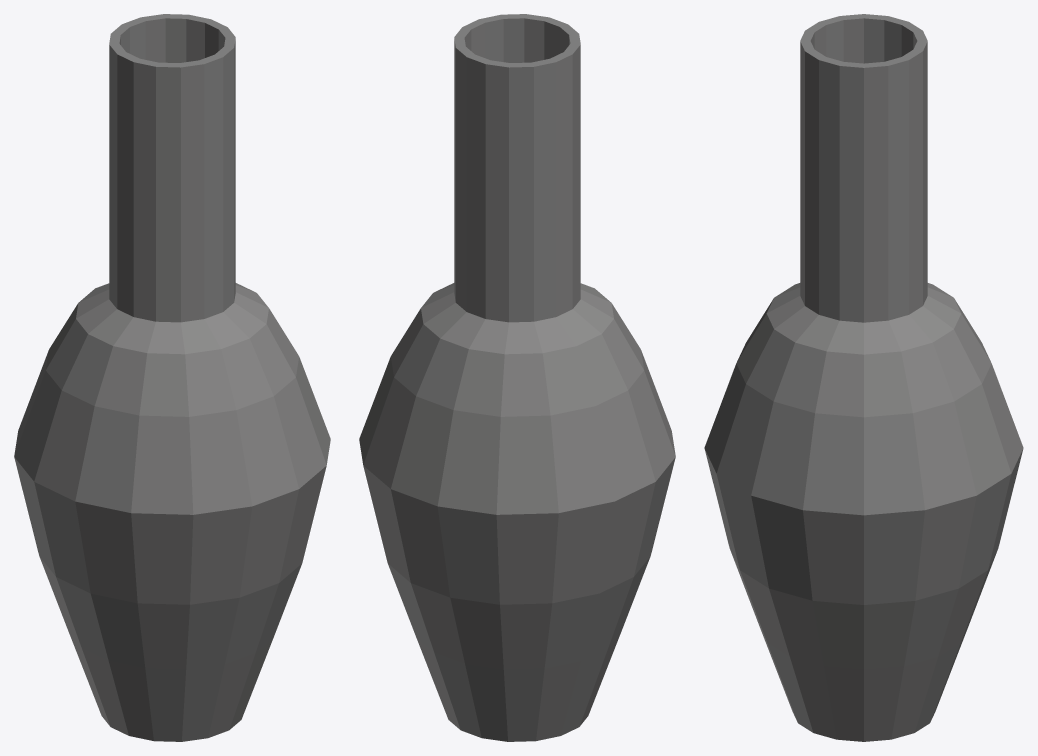
The model's file is FurnAcc_VaseV2.fbx.
The picture shows the model from 3 angles, left to right: view 1: azimuth 30°, elevation 25°; view 2: azimuth 150°, elevation 25°; view 3: azimuth 270°, elevation 25°; orthographic projection.
Visible parts, largest first — view 1: FurnAcc_VaseV2; view 2: FurnAcc_VaseV2; view 3: FurnAcc_VaseV2.
Boxes of the visible parts, left/top/right/bottom form: FurnAcc_VaseV2: left=14, top=14, right=330, bottom=741; FurnAcc_VaseV2: left=359, top=14, right=675, bottom=741; FurnAcc_VaseV2: left=704, top=14, right=1023, bottom=741.
Size of the model in its own units: 27.93 by 64.78 by 27.93.
